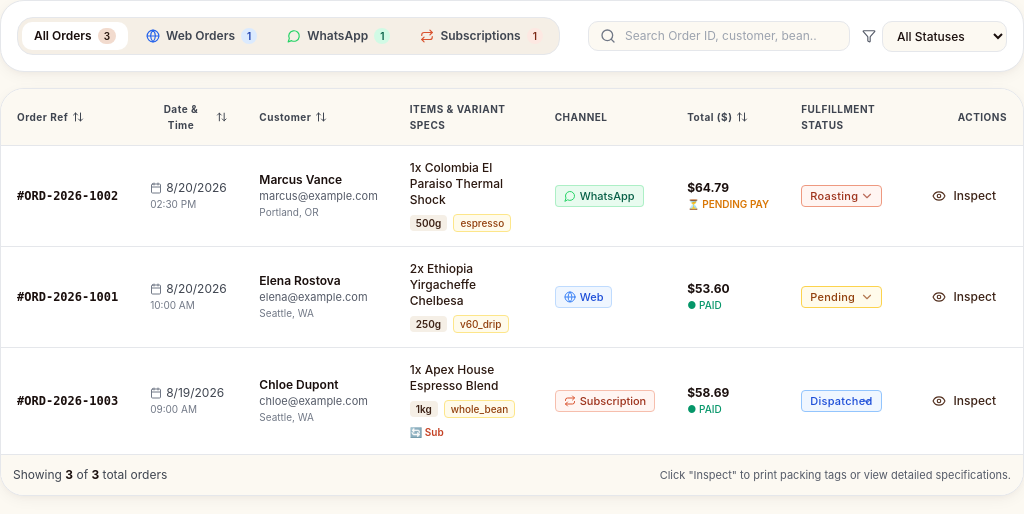
Scenario: Admin UI Components — Unit Tests › OrderTable › filters orders by channel tabs (Web, WhatsApp, Subscriptions)
# WhatsApp tab
Click the button "WhatsApp 1": click(339, 36) [275,22,402,50]
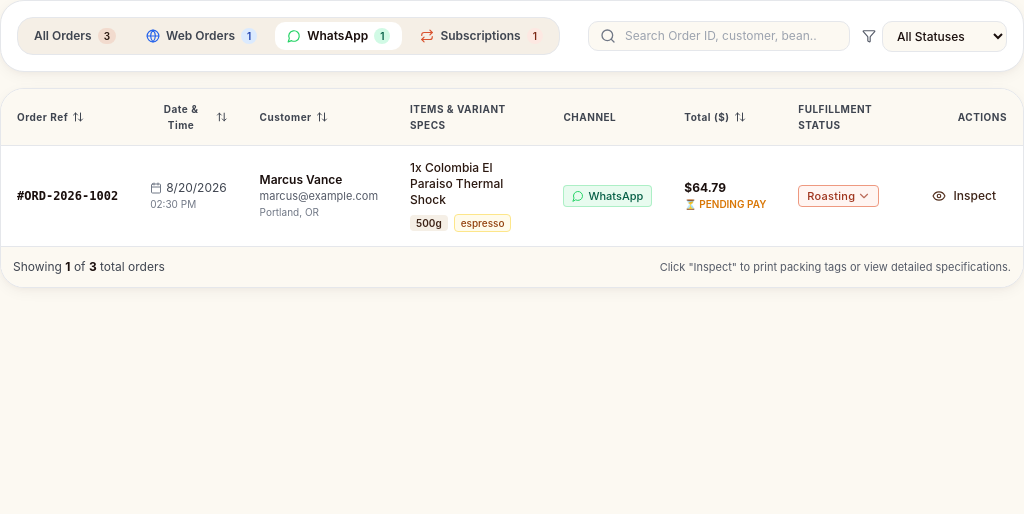
Expected: the row with test id "order-row-ORD-2026-1002" is shown, [1,146,1023,246]
Expected: the row with test id "order-row-ORD-2026-1001" is gone
# Subscriptions tab
Click the button "Subscriptions 1": click(482, 36) [408,22,555,50]
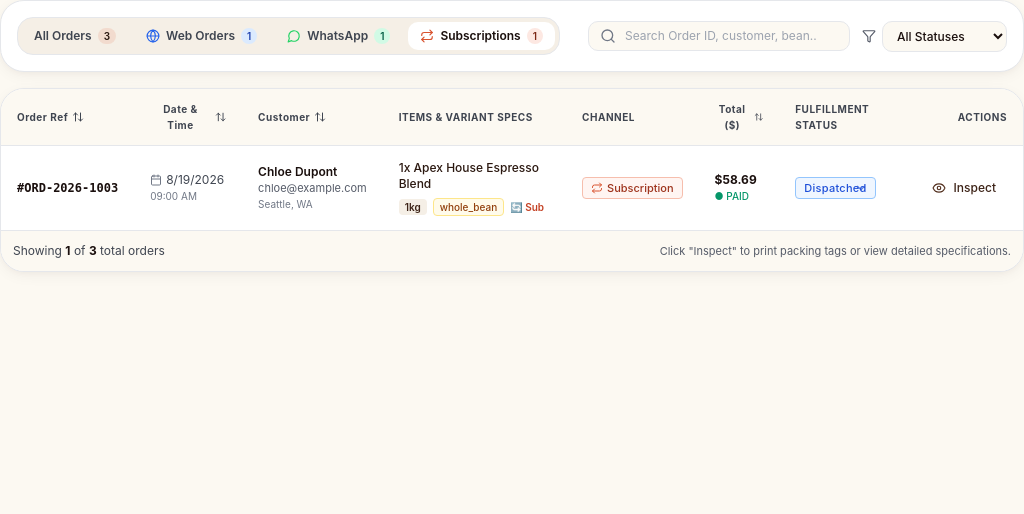
Expected: the row with test id "order-row-ORD-2026-1003" is shown, [1,146,1023,230]
Expected: the row with test id "order-row-ORD-2026-1002" is gone
